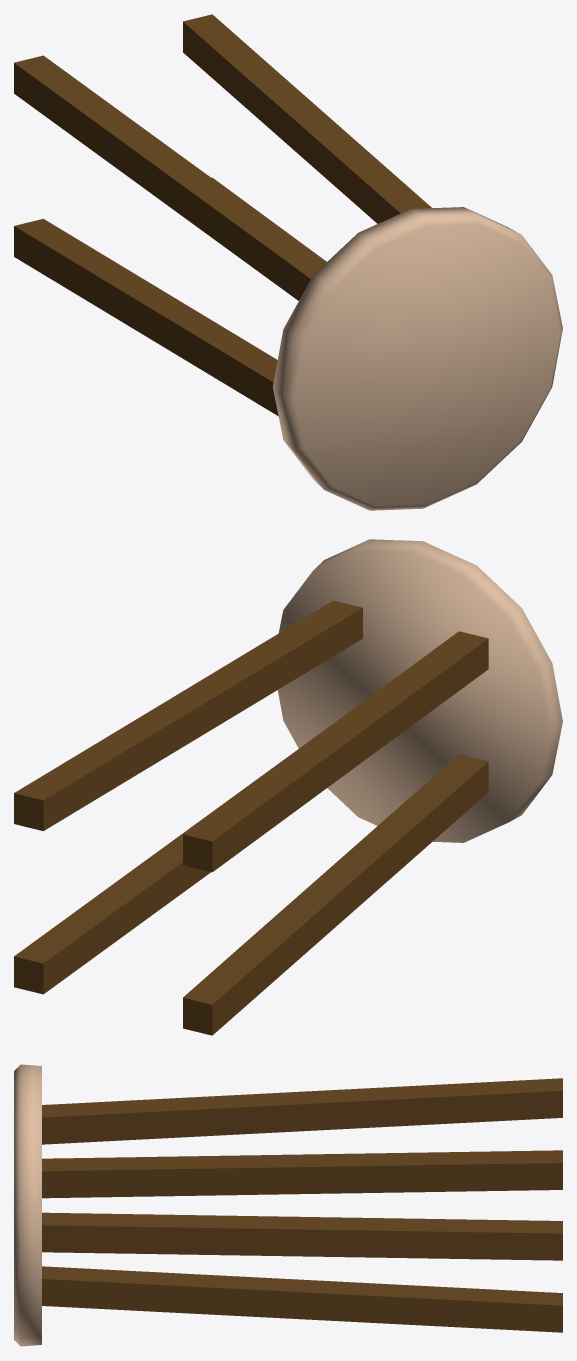
The model's file is Stool.obj.
3 renders of one model, top to bottom at view 1: azimuth 30°, elevation 25°; view 2: azimuth 150°, elevation 25°; view 3: azimuth 270°, elevation 25°, orthographic. The views are drawn at different scales.
Parts seen in each view (by area): view 1: Stool.003; view 2: Stool.003; view 3: Stool.003.
Part boxes in pixels (box(x1,y1,x2,y2)): Stool.003: box(14, 14, 562, 510); Stool.003: box(14, 539, 562, 1035); Stool.003: box(14, 1064, 562, 1346).
Size of the model in its own units: 0.3894 by 0.3894 by 0.757.
